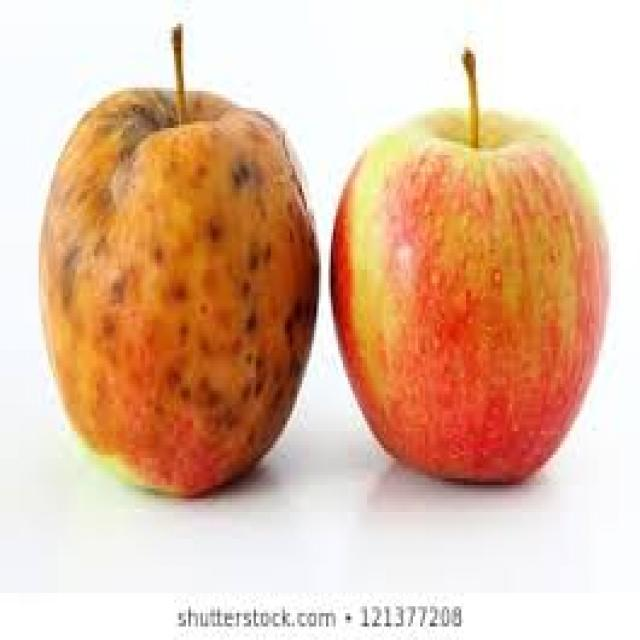organic waste: (36, 20, 316, 492), (328, 47, 608, 482)
